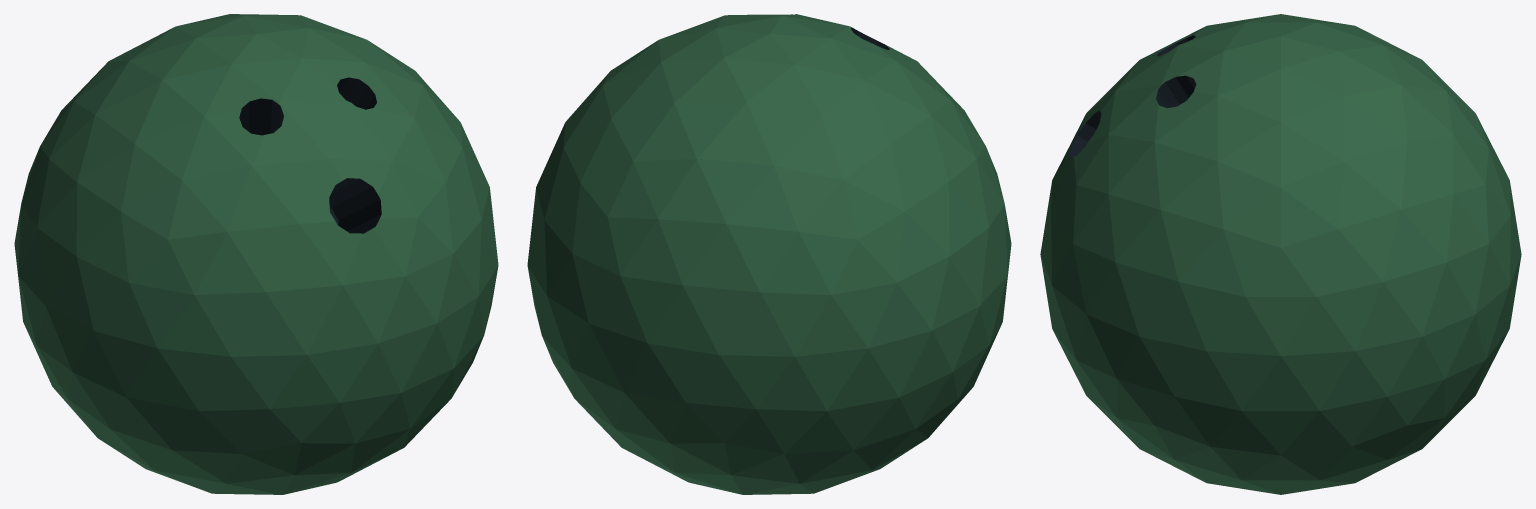
The model's file is BowlingBall_Green.fbx.
3 renders of one model, left to right at view 1: azimuth 30°, elevation 25°; view 2: azimuth 150°, elevation 25°; view 3: azimuth 270°, elevation 25°, orthographic.
Visible parts, largest first — view 1: BowlingBall_Green; view 2: BowlingBall_Green; view 3: BowlingBall_Green.
Part boxes in pixels (x1,y1,x2,y2): BowlingBall_Green: (14,14,498,494); BowlingBall_Green: (527,14,1011,494); BowlingBall_Green: (1040,14,1521,494).
Bounding box in the file's own units: 0.217 × 0.217 × 0.217.
1 material, 1 textured.
